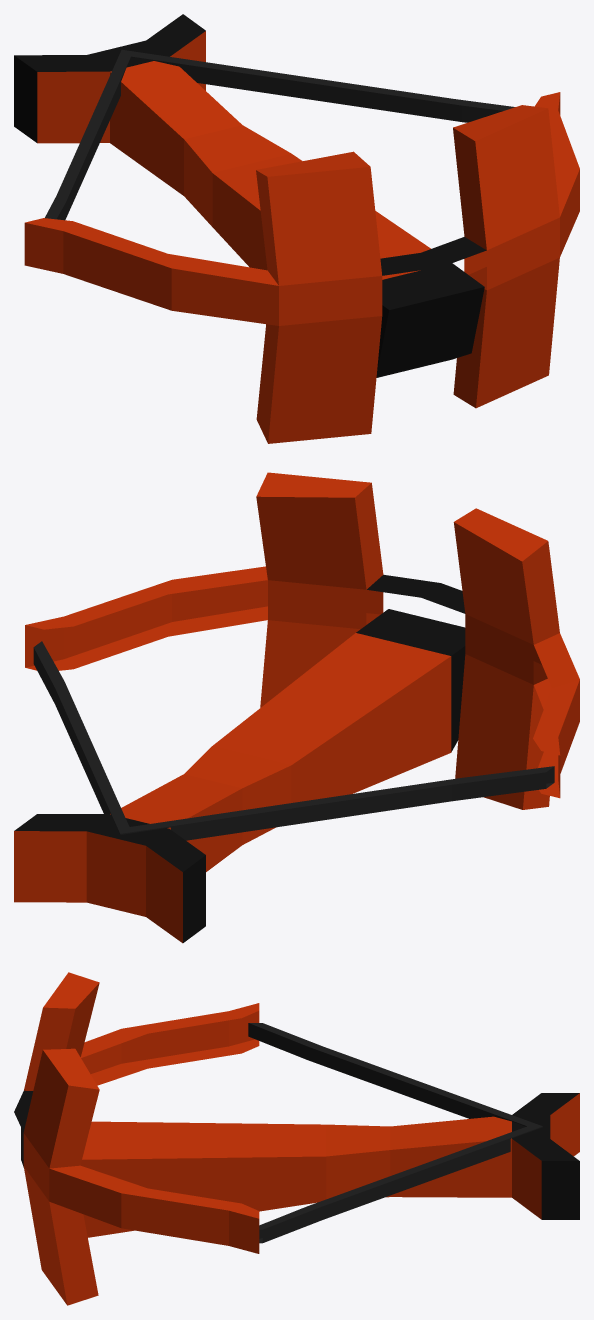
File: balista_turret_pull.obj
The picture shows the model from 3 angles, top to bottom: view 1: azimuth 30°, elevation 25°; view 2: azimuth 150°, elevation 25°; view 3: azimuth 270°, elevation 25°; orthographic projection. The views are drawn at different scales.
Parts seen in each view (by area): view 1: balista_turret_pull; view 2: balista_turret_pull; view 3: balista_turret_pull.
Part boxes in pixels (bbox=[...]): balista_turret_pull: bbox=[14, 14, 579, 443]; balista_turret_pull: bbox=[14, 472, 579, 943]; balista_turret_pull: bbox=[14, 972, 579, 1305].
Size of the model in its own units: 0.6917 by 0.329 by 0.7663.
